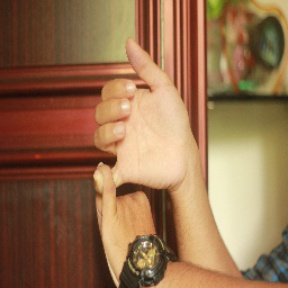S: (88, 34, 192, 282)
